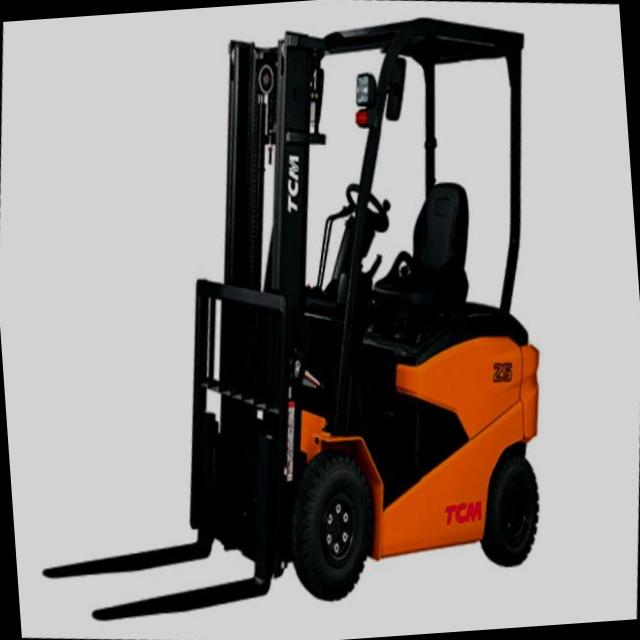forklift: (139, 0, 604, 637)
